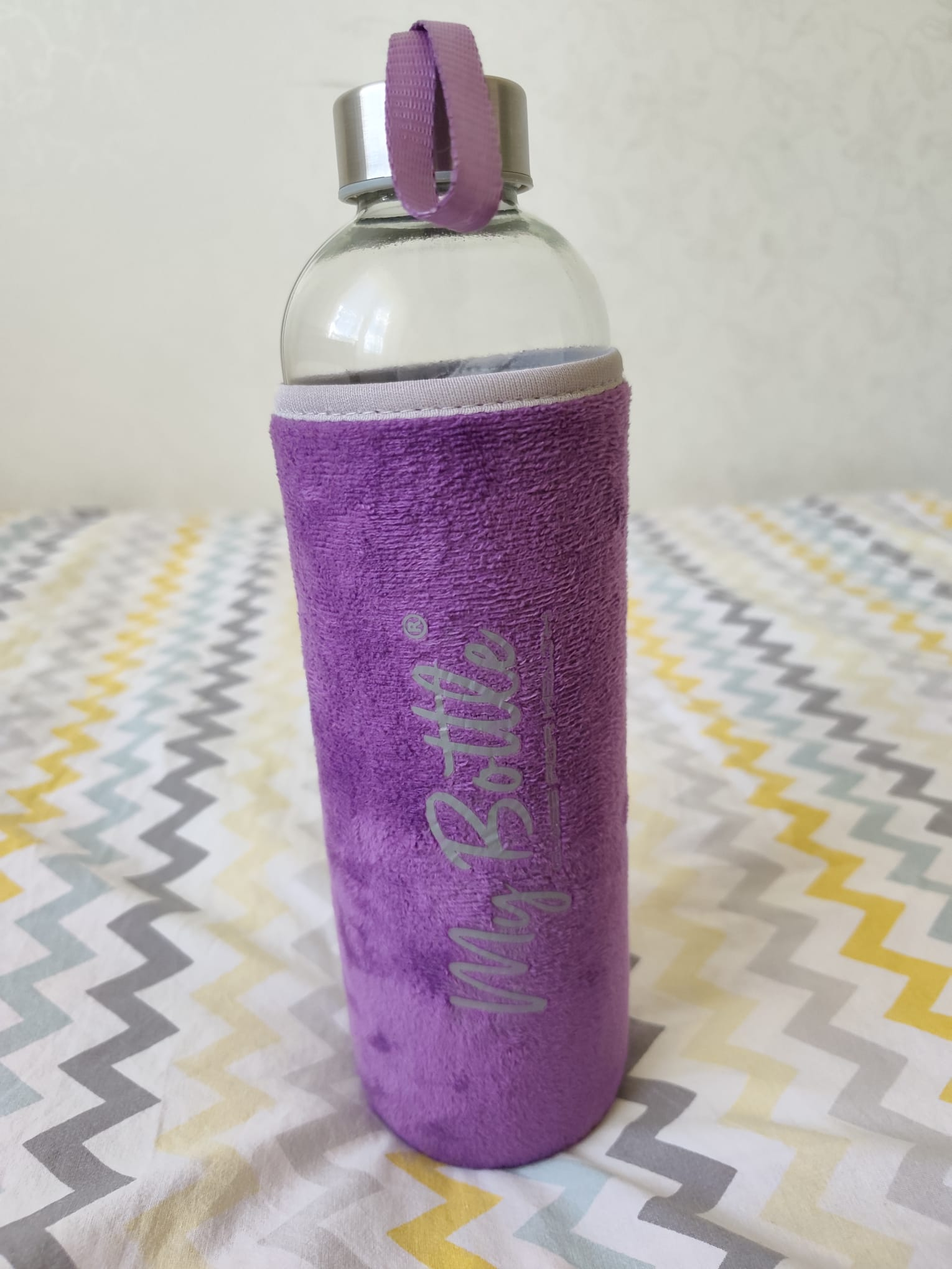su_sisesi: (252, 19, 645, 1178)
